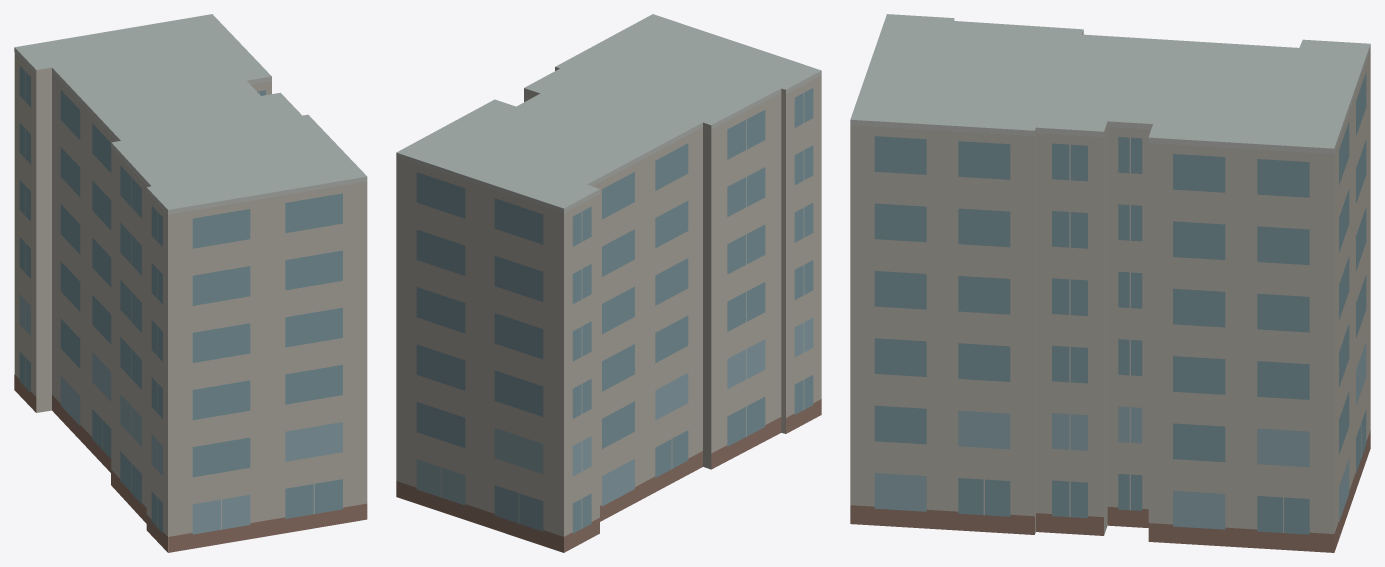
Rendered from survey-upis-32926827.glb.
3 views of the same model, side by side, from view 1: azimuth 30°, elevation 25°; view 2: azimuth 150°, elevation 25°; view 3: azimuth 270°, elevation 25° (orthographic). The views are drawn at different scales.
Visible parts, largest first — view 1: survey-upis-32926827.tmp; view 2: survey-upis-32926827.tmp; view 3: survey-upis-32926827.tmp.
Part boxes in pixels (x1,y1,x2,y2): survey-upis-32926827.tmp: (14, 14, 367, 552); survey-upis-32926827.tmp: (396, 14, 821, 552); survey-upis-32926827.tmp: (850, 14, 1370, 552).
Size of the model in its own units: 12.87 by 18 by 21.01.
